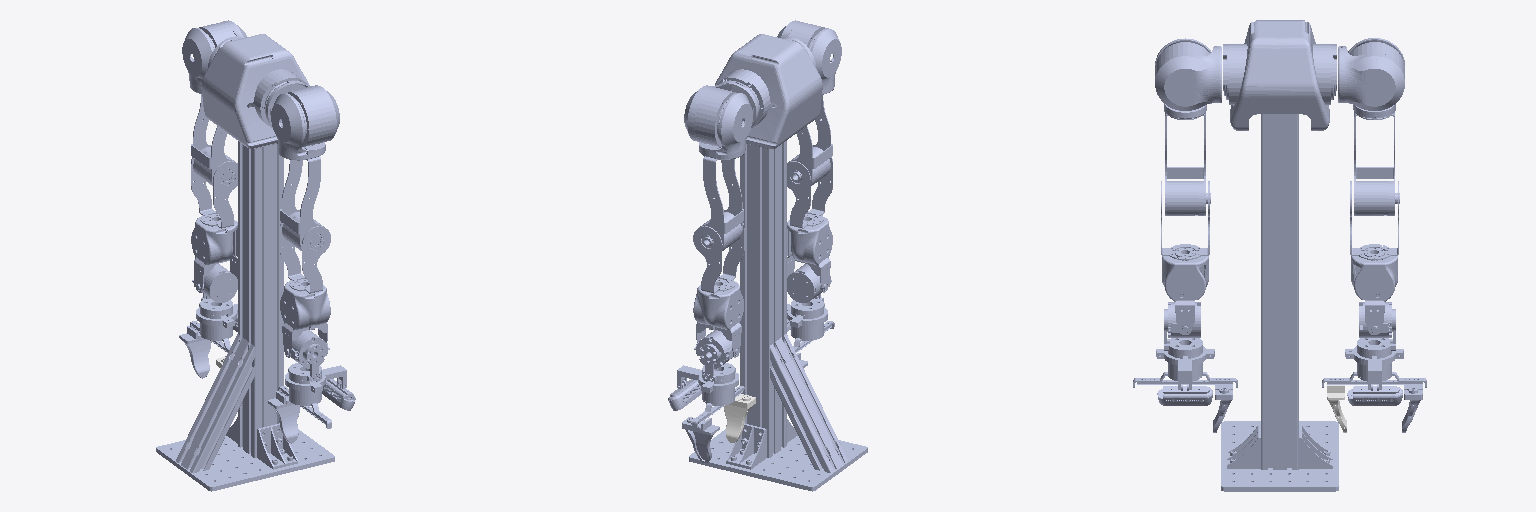
robot.urdf — onlyOpenArm:
<?xml version='1.0' encoding='utf-8'?>
<robot name="onlyOpenArm">
  <link name="base_link">
    <inertial>
      <origin xyz="-0.016465 -6.2104E-08 0.2186" rpy="0 0 0" />
      <mass value="1.2996" />
      <inertia ixx="0.035976" ixy="-1.3223E-09" ixz="-0.00018779" iyy="0.036865" iyz="4.1353E-09" izz="0.0038633" />
    </inertial>
    <visual>
      <origin xyz="0 0 0" rpy="0 0 0" />
      <geometry>
        <mesh filename="../meshes/base_link.STL" />
      </geometry>
      <material name="base_link_mat">
        <color rgba="0.79216 0.81961 0.93333 1" />
      </material>
    </visual>
    <collision>
      <origin xyz="0 0 0" rpy="0 0 0" />
      <geometry>
        <mesh filename="../meshes/base_link.STL" />
      </geometry>
    </collision>
  </link>
  <link name="chest_link">
    <inertial>
      <origin xyz="-0.00265426125453608 -4.62170468645087E-07 -0.000315991909358826" rpy="0 0 0" />
      <mass value="0.961029300529121" />
      <inertia ixx="0.00154725912662695" ixy="1.7764772828954E-09" ixz="-8.78663568183448E-06" iyy="0.00146100214608263" iyz="5.50592531335144E-09" izz="0.00110103910235356" />
    </inertial>
    <visual>
      <origin xyz="0 0 0" rpy="0 0 0" />
      <geometry>
        <mesh filename="../meshes/chest_link.STL" />
      </geometry>
      <material name="chest_link_mat">
        <color rgba="0.792156862745098 0.819607843137255 0.933333333333333 1" />
      </material>
    </visual>
    <collision>
      <origin xyz="0 0 0" rpy="0 0 0" />
      <geometry>
        <mesh filename="../meshes/chest_link.STL" />
      </geometry>
    </collision>
  </link>
  <joint name="chest_link_joint" type="fixed">
    <origin xyz="0 0 0.689" rpy="0 0 0" />
    <parent link="base_link" />
    <child link="chest_link" />
    <axis xyz="0 0 0" />
  </joint>
  <link name="L_link1">
    <inertial>
      <origin xyz="0.0028574850509792 0.0632204521899359 -3.65597203566548E-06" rpy="0 0 0" />
      <mass value="0.428723167605888" />
      <inertia ixx="0.000497786435074814" ixy="-4.06674375356836E-06" ixz="-1.4852974232873E-08" iyy="0.000348928202100703" iyz="2.18829443005103E-08" izz="0.000348282547632613" />
    </inertial>
    <visual>
      <origin xyz="0 0 0" rpy="0 0 0" />
      <geometry>
        <mesh filename="../meshes/L_link1.STL" />
      </geometry>
      <material name="L_link1_mat">
        <color rgba="0.792156862745098 0.819607843137255 0.933333333333333 1" />
      </material>
    </visual>
    <collision>
      <origin xyz="0 0 0" rpy="0 0 0" />
      <geometry>
        <mesh filename="../meshes/L_link1.STL" />
      </geometry>
    </collision>
  </link>
  <joint name="openarm_left_joint1" type="revolute">
    <origin xyz="0 0.0875 0" rpy="0 0 0" />
    <parent link="chest_link" />
    <child link="L_link1" />
    <axis xyz="0 -1 0" />
    <limit lower="-3.490659" upper="1.396263" effort="40" velocity="16.754666" />
  </joint>
  <link name="L_link2">
    <inertial>
      <origin xyz="0.00319114847802606 1.89157972412812E-05 -0.0180126991207188" rpy="0 0 0" />
      <mass value="0.0330585388174651" />
      <inertia ixx="4.44439087771086E-05" ixy="-9.79241733494771E-09" ixz="1.58857978311644E-06" iyy="2.43696065668973E-05" iyz="2.17251644636195E-08" izz="2.70784810921336E-05" />
    </inertial>
    <visual>
      <origin xyz="0 0 0" rpy="0 0 0" />
      <geometry>
        <mesh filename="../meshes/L_link2.STL" />
      </geometry>
      <material name="L_link2_mat">
        <color rgba="0.792156862745098 0.819607843137255 0.933333333333333 1" />
      </material>
    </visual>
    <collision>
      <origin xyz="0 0 0" rpy="0 0 0" />
      <geometry>
        <mesh filename="../meshes/L_link2.STL" />
      </geometry>
    </collision>
  </link>
  <joint name="openarm_left_joint2" type="revolute">
    <origin xyz="-0.0284 0.065 0" rpy="0 0 0" />
    <parent link="L_link1" />
    <child link="L_link2" />
    <axis xyz="1 0 0" />
    <limit lower="-0.174532673205103" upper="3.3161253267949" effort="40" velocity="16.754666" />
  </joint>
  <link name="L_link3">
    <inertial>
      <origin xyz="-0.00800291007930856 -0.000343346707671943 -0.0531308257525825" rpy="0 0 0" />
      <mass value="0.0461751985532206" />
      <inertia ixx="9.23488628163283E-05" ixy="-2.0765646985585E-08" ixz="-5.02288532006929E-06" iyy="7.97136401174945E-05" iyz="-1.04079045180172E-06" izz="3.3626457414897E-05" />
    </inertial>
    <visual>
      <origin xyz="0 0 0" rpy="0 0 0" />
      <geometry>
        <mesh filename="../meshes/L_link3.STL" />
      </geometry>
      <material name="L_link3_mat">
        <color rgba="0.792156862745098 0.819607843137255 0.933333333333333 1" />
      </material>
    </visual>
    <collision>
      <origin xyz="0 0 0" rpy="0 0 0" />
      <geometry>
        <mesh filename="../meshes/L_link3.STL" />
      </geometry>
    </collision>
  </link>
  <joint name="openarm_left_joint3" type="revolute">
    <origin xyz="0.0284 0 -0.051" rpy="0 0 0" />
    <parent link="L_link2" />
    <child link="L_link3" />
    <axis xyz="0 0 -1" />
    <limit lower="-1.570796" upper="1.570796" effort="27" velocity="5.445426" />
  </joint>
  <link name="L_link4">
    <inertial>
      <origin xyz="-0.000377103258752248 -0.000972742660667103 -0.00461714043021344" rpy="0 0 0" />
      <mass value="0.167515407349166" />
      <inertia ixx="9.1526242310371E-05" ixy="4.06808603077388E-07" ixz="-7.74033979090791E-07" iyy="9.63150655378188E-05" iyz="1.82567188603807E-07" izz="6.43816342016769E-05" />
    </inertial>
    <visual>
      <origin xyz="0 0 0" rpy="0 0 0" />
      <geometry>
        <mesh filename="../meshes/L_link4.STL" />
      </geometry>
      <material name="L_link4_mat">
        <color rgba="0.792156862745098 0.819607843137255 0.933333333333333 1" />
      </material>
    </visual>
    <collision>
      <origin xyz="0 0 0" rpy="0 0 0" />
      <geometry>
        <mesh filename="../meshes/L_link4.STL" />
      </geometry>
    </collision>
  </link>
  <joint name="openarm_left_joint4" type="revolute">
    <origin xyz="0 -5E-05 -0.169" rpy="0 0 0" />
    <parent link="L_link3" />
    <child link="L_link4" />
    <axis xyz="0 1 0" />
    <limit lower="-2.443461" upper="0" effort="27" velocity="5.445426" />
  </joint>
  <link name="L_link5">
    <inertial>
      <origin xyz="-0.00157552316828087 0.00139645686886938 -0.0368146146540423" rpy="0 0 0" />
      <mass value="0.0624093411778105" />
      <inertia ixx="5.77164829166304E-05" ixy="2.51989765412789E-06" ixz="4.37147269376145E-07" iyy="4.12323548583873E-05" iyz="1.56275801538606E-06" izz="3.09448276005759E-05" />
    </inertial>
    <visual>
      <origin xyz="0 0 0" rpy="0 0 0" />
      <geometry>
        <mesh filename="../meshes/L_link5.STL" />
      </geometry>
      <material name="L_link5_mat">
        <color rgba="0.792156862745098 0.819607843137255 0.933333333333333 1" />
      </material>
    </visual>
    <collision>
      <origin xyz="0 0 0" rpy="0 0 0" />
      <geometry>
        <mesh filename="../meshes/L_link5.STL" />
      </geometry>
    </collision>
  </link>
  <joint name="openarm_left_joint5" type="revolute">
    <origin xyz="0 0 -0.0955" rpy="0 0 0" />
    <parent link="L_link4" />
    <child link="L_link5" />
    <axis xyz="0 0 -1" />
    <limit lower="-1.570796" upper="1.570796" effort="7" velocity="20.943946" />
  </joint>
  <link name="L_link6">
    <inertial>
      <origin xyz="-0.000118219054211455 0.000482034444093504 9.19047871509315E-05" rpy="0 0 0" />
      <mass value="0.124365317000334" />
      <inertia ixx="4.3383251869096E-05" ixy="-2.85632328450714E-07" ixz="1.91172558422698E-10" iyy="5.10124622550893E-05" iyz="-9.1202007691454E-09" izz="4.38521015932098E-05" />
    </inertial>
    <visual>
      <origin xyz="0 0 0" rpy="0 0 0" />
      <geometry>
        <mesh filename="../meshes/L_link6.STL" />
      </geometry>
      <material name="L_link6_mat">
        <color rgba="0.792156862745098 0.819607843137255 0.933333333333333 1" />
      </material>
    </visual>
    <collision>
      <origin xyz="0 0 0" rpy="0 0 0" />
      <geometry>
        <mesh filename="../meshes/L_link6.STL" />
      </geometry>
    </collision>
  </link>
  <joint name="openarm_left_joint6" type="revolute">
    <origin xyz="0 0 -0.1205" rpy="0 0 0" />
    <parent link="L_link5" />
    <child link="L_link6" />
    <axis xyz="-1 0 0" />
    <limit lower="-0.785398" upper="0.785398" effort="7" velocity="20.943946" />
  </joint>
  <link name="L_link7">
    <inertial>
      <origin xyz="0.0579651580272021 -0.0297329943740067 -0.0995073797045613" rpy="0 0 0" />
      <mass value="1.55408348257679" />
      <inertia ixx="0.000920081040486201" ixy="5.52488548083173E-06" ixz="-7.11704096168738E-06" iyy="0.000202027765234832" iyz="-1.03988256694991E-05" izz="0.00092014746838654" />
    </inertial>
    <visual>
      <origin xyz="0 0 0" rpy="0 0 0" />
      <geometry>
        <mesh filename="../meshes/L_link7.STL" />
      </geometry>
      <material name="L_link7_mat">
        <color rgba="0.792156862745098 0.819607843137255 0.933333333333333 1" />
      </material>
    </visual>
    <collision>
      <origin xyz="0 0 0" rpy="0 0 0" />
      <geometry>
        <mesh filename="../meshes/L_link7.STL" />
      </geometry>
    </collision>
  </link>
  <joint name="openarm_left_joint7" type="revolute">
    <origin xyz="0 0.03175 0" rpy="0 0 0" />
    <parent link="L_link6" />
    <child link="L_link7" />
    <axis xyz="0 -1 0" />
    <limit lower="-1.570796" upper="1.570796" effort="7" velocity="20.943946" />
  </joint>
  <link name="gripper_LL_link">
    <inertial>
      <origin xyz="0.002238 -0.0019386 -0.021101" rpy="0 0 0" />
      <mass value="0.034293" />
      <inertia ixx="1.5009E-05" ixy="6.7185E-09" ixz="4.766E-07" iyy="1.9802E-05" iyz="-2.638E-06" izz="8.7324E-06" />
    </inertial>
    <visual>
      <origin xyz="0 0 0" rpy="0 0 0" />
      <geometry>
        <mesh filename="../meshes/gripper_LL_link.STL" />
      </geometry>
      <material name="gripper_LL_link_mat">
        <color rgba="0.79216 0.81961 0.93333 1" />
      </material>
    </visual>
    <collision>
      <origin xyz="0 0 0" rpy="0 0 0" />
      <geometry>
        <mesh filename="../meshes/gripper_LL_link.STL" />
      </geometry>
    </collision>
  </link>
  <joint name="openarm_left_finger_joint2" type="prismatic">
    <origin xyz="0 0.03075 -0.119" rpy="0 0 0" />
    <parent link="L_link7" />
    <child link="gripper_LL_link" />
    <axis xyz="-0.0 -1.0 -0.0" />
    <limit lower="-0.0" upper="0.044" effort="333" velocity="10" />
  <mimic joint="openarm_left_finger_joint1" multiplier="1" offset="0" /></joint>
  <link name="gripper_LR_link">
    <inertial>
      <origin xyz="-0.0081536352641909 -0.0958583062656806 0.286035199817201" rpy="0 0 0" />
      <mass value="24.8394901352636" />
      <inertia ixx="1.99613688757491" ixy="0.000552186470919695" ixz="-0.0560492490589843" iyy="1.78892829373678" iyz="0.0381348206529207" izz="0.27665740999479" />
    </inertial>
    <visual>
      <origin xyz="0 0 0" rpy="0 0 0" />
      <geometry>
        <mesh filename="../meshes/gripper_LR_link.STL" />
      </geometry>
      <material name="gripper_LR_link_mat">
        <color rgba="1 1 1 1" />
      </material>
    </visual>
    <collision>
      <origin xyz="0 0 0" rpy="0 0 0" />
      <geometry>
        <mesh filename="../meshes/gripper_LR_link.STL" />
      </geometry>
    </collision>
  </link>
  <joint name="openarm_left_finger_joint1" type="prismatic">
    <origin xyz="0 -0.09425 -0.119" rpy="0 0 0" />
    <parent link="L_link7" />
    <child link="gripper_LR_link" />
    <axis xyz="0 1 0" />
    <limit lower="0" upper="0.044" effort="333" velocity="10" />
  </joint>
  <link name="R_link1">
    <inertial>
      <origin xyz="0.0028579788079788 -0.0632320700165144 6.25102727125348E-06" rpy="0 0 0" />
      <mass value="0.428550748011452" />
      <inertia ixx="0.00049755288712953" ixy="4.05907561651591E-06" ixz="9.33033665556168E-09" iyy="0.000348624286657862" iyz="1.95220817287406E-08" izz="0.000348217694827786" />
    </inertial>
    <visual>
      <origin xyz="0 0 0" rpy="0 0 0" />
      <geometry>
        <mesh filename="../meshes/R_link1.STL" />
      </geometry>
      <material name="R_link1_mat">
        <color rgba="0.792156862745098 0.819607843137255 0.933333333333333 1" />
      </material>
    </visual>
    <collision>
      <origin xyz="0 0 0" rpy="0 0 0" />
      <geometry>
        <mesh filename="../meshes/R_link1.STL" />
      </geometry>
    </collision>
  </link>
  <joint name="openarm_right_joint1" type="revolute">
    <origin xyz="0 -0.0875 0" rpy="0 0 0" />
    <parent link="chest_link" />
    <child link="R_link1" />
    <axis xyz="0 -1 0" />
    <limit lower="-1.396263" upper="3.490659" effort="40" velocity="16.754666" />
  </joint>
  <link name="R_link2">
    <inertial>
      <origin xyz="0.00301992882213901 -4.93390547834371E-07 -0.0217193749285765" rpy="0 0 0" />
      <mass value="0.0359553759304964" />
      <inertia ixx="4.97804540107305E-05" ixy="-2.46599493217256E-10" ixz="1.84997524916397E-06" iyy="2.91752185113685E-05" iyz="-6.92175006563736E-10" izz="2.79887059601754E-05" />
    </inertial>
    <visual>
      <origin xyz="0 0 0" rpy="0 0 0" />
      <geometry>
        <mesh filename="../meshes/R_link2.STL" />
      </geometry>
      <material name="R_link2_mat">
        <color rgba="0.792156862745098 0.819607843137255 0.933333333333333 1" />
      </material>
    </visual>
    <collision>
      <origin xyz="0 0 0" rpy="0 0 0" />
      <geometry>
        <mesh filename="../meshes/R_link2.STL" />
      </geometry>
    </collision>
  </link>
  <joint name="openarm_right_joint2" type="revolute">
    <origin xyz="-0.0284 -0.065 0" rpy="0 0 0" />
    <parent link="R_link1" />
    <child link="R_link2" />
    <axis xyz="1 0 0" />
    <limit lower="-3.3161253267949" upper="0.174532673205103" effort="40" velocity="16.754666" />
  </joint>
  <link name="R_link3">
    <inertial>
      <origin xyz="-0.00800291007404186 -0.00034334670731842 -0.0531308257945925" rpy="0 0 0" />
      <mass value="0.0461751985133138" />
      <inertia ixx="9.23488628161599E-05" ixy="-2.07656467619852E-08" ixz="-5.0228853205785E-06" iyy="7.97136401152781E-05" iyz="-1.04079045185224E-06" izz="3.36264574128015E-05" />
    </inertial>
    <visual>
      <origin xyz="0 0 0" rpy="0 0 0" />
      <geometry>
        <mesh filename="../meshes/R_link3.STL" />
      </geometry>
      <material name="R_link3_mat">
        <color rgba="0.792156862745098 0.819607843137255 0.933333333333333 1" />
      </material>
    </visual>
    <collision>
      <origin xyz="0 0 0" rpy="0 0 0" />
      <geometry>
        <mesh filename="../meshes/R_link3.STL" />
      </geometry>
    </collision>
  </link>
  <joint name="openarm_right_joint3" type="revolute">
    <origin xyz="0.0284 0 -0.051" rpy="0 0 0" />
    <parent link="R_link2" />
    <child link="R_link3" />
    <axis xyz="0 0 -1" />
    <limit lower="-1.570796" upper="1.570796" effort="27" velocity="5.445426" />
  </joint>
  <link name="R_link4">
    <inertial>
      <origin xyz="-0.000377103258748617 -0.00102274266064992 -0.00461714043020178" rpy="0 0 0" />
      <mass value="0.167515407349026" />
      <inertia ixx="9.15262423103031E-05" ixy="4.0680860310184E-07" ixz="-7.74033979052493E-07" iyy="9.63150655377791E-05" iyz="1.82567188654244E-07" izz="6.43816342016233E-05" />
    </inertial>
    <visual>
      <origin xyz="0 0 0" rpy="0 0 0" />
      <geometry>
        <mesh filename="../meshes/R_link4.STL" />
      </geometry>
      <material name="R_link4_mat">
        <color rgba="0.792156862745098 0.819607843137255 0.933333333333333 1" />
      </material>
    </visual>
    <collision>
      <origin xyz="0 0 0" rpy="0 0 0" />
      <geometry>
        <mesh filename="../meshes/R_link4.STL" />
      </geometry>
    </collision>
  </link>
  <joint name="openarm_right_joint4" type="revolute">
    <origin xyz="0 0 -0.169" rpy="0 0 0" />
    <parent link="R_link3" />
    <child link="R_link4" />
    <axis xyz="0 1 0" />
    <limit lower="-2.443461" upper="0" effort="27" velocity="5.445426" />
  </joint>
  <link name="R_link5">
    <inertial>
      <origin xyz="-0.00156215263024501 -0.0014508892507919 -0.0368162356097759" rpy="0 0 0" />
      <mass value="0.0624378916320301" />
      <inertia ixx="5.77190405834513E-05" ixy="-2.52109519301694E-06" ixz="4.36107708487273E-07" iyy="4.12343320609259E-05" iyz="-1.56205392080774E-06" izz="3.09367259554593E-05" />
    </inertial>
    <visual>
      <origin xyz="0 0 0" rpy="0 0 0" />
      <geometry>
        <mesh filename="../meshes/R_link5.STL" />
      </geometry>
      <material name="R_link5_mat">
        <color rgba="0.792156862745098 0.819607843137255 0.933333333333333 1" />
      </material>
    </visual>
    <collision>
      <origin xyz="0 0 0" rpy="0 0 0" />
      <geometry>
        <mesh filename="../meshes/R_link5.STL" />
      </geometry>
    </collision>
  </link>
  <joint name="openarm_right_joint5" type="revolute">
    <origin xyz="0 0 -0.0955" rpy="0 0 0" />
    <parent link="R_link4" />
    <child link="R_link5" />
    <axis xyz="0 0 -1" />
    <limit lower="-1.570796" upper="1.570796" effort="7" velocity="20.943946" />
  </joint>
  <link name="R_link6">
    <inertial>
      <origin xyz="0.000118067887697734 -0.000531937521913328 9.17235558789975E-05" rpy="0 0 0" />
      <mass value="0.124364324604372" />
      <inertia ixx="4.33830979938231E-05" ixy="-2.85643185329965E-07" ixz="1.62190173725937E-10" iyy="5.10123532930584E-05" iyz="9.08394934900115E-09" izz="4.3852129572716E-05" />
    </inertial>
    <visual>
      <origin xyz="0 0 0" rpy="0 0 0" />
      <geometry>
        <mesh filename="../meshes/R_link6.STL" />
      </geometry>
      <material name="R_link6_mat">
        <color rgba="0.792156862745098 0.819607843137255 0.933333333333333 1" />
      </material>
    </visual>
    <collision>
      <origin xyz="0 0 0" rpy="0 0 0" />
      <geometry>
        <mesh filename="../meshes/R_link6.STL" />
      </geometry>
    </collision>
  </link>
  <joint name="openarm_right_joint6" type="revolute">
    <origin xyz="0 0 -0.1205" rpy="0 0 0" />
    <parent link="R_link5" />
    <child link="R_link6" />
    <axis xyz="-1 0 0" />
    <limit lower="-0.785398" upper="0.785398" effort="7" velocity="20.943946" />
  </joint>
  <link name="R_link7">
    <inertial>
      <origin xyz="0.0579890709326253 0.0322364241621132 -0.0995073780883964" rpy="0 0 0" />
      <mass value="1.55408351225417" />
      <inertia ixx="0.000920062424870304" ixy="-6.58845916625103E-06" ixz="-7.30255194909462E-06" iyy="0.000202046070900697" iyz="-1.07704004503888E-05" izz="0.000920147151754771" />
    </inertial>
    <visual>
      <origin xyz="0 0 0" rpy="0 0 0" />
      <geometry>
        <mesh filename="../meshes/R_link7.STL" />
      </geometry>
      <material name="R_link7_mat">
        <color rgba="0.792156862745098 0.819607843137255 0.933333333333333 1" />
      </material>
    </visual>
    <collision>
      <origin xyz="0 0 0" rpy="0 0 0" />
      <geometry>
        <mesh filename="../meshes/R_link7.STL" />
      </geometry>
    </collision>
  </link>
  <joint name="openarm_right_joint7" type="revolute">
    <origin xyz="0 -0.0318 0" rpy="0 0 0" />
    <parent link="R_link6" />
    <child link="R_link7" />
    <axis xyz="0 -1 0" />
    <limit lower="-1.570796" upper="1.570796" effort="7" velocity="20.943946" />
  </joint>
  <link name="gripper_RR_link">
    <inertial>
      <origin xyz="-0.00115762087383311 0.001921667134859 -0.0210330468761778" rpy="0 0 0" />
      <mass value="0.0342427855585353" />
      <inertia ixx="1.49152564519195E-05" ixy="8.01781518986841E-08" ixz="-4.65980601628511E-07" iyy="1.96608294950165E-05" iyz="2.61479292107359E-06" izz="8.67204438740249E-06" />
    </inertial>
    <visual>
      <origin xyz="0 0 0" rpy="0 0 0" />
      <geometry>
        <mesh filename="../meshes/gripper_RR_link.STL" />
      </geometry>
      <material name="gripper_RR_link_mat">
        <color rgba="0.792156862745098 0.819607843137255 0.933333333333333 1" />
      </material>
    </visual>
    <collision>
      <origin xyz="0 0 0" rpy="0 0 0" />
      <geometry>
        <mesh filename="../meshes/gripper_RR_link.STL" />
      </geometry>
    </collision>
  </link>
  <joint name="openarm_right_finger_joint1" type="prismatic">
    <origin xyz="0 -0.03075 -0.119" rpy="0 0 0" />
    <parent link="R_link7" />
    <child link="gripper_RR_link" />
    <axis xyz="0 1 0" />
    <limit lower="0" upper="0.044" effort="333" velocity="10" />
  </joint>
  <link name="gripper_RL_link">
    <inertial>
      <origin xyz="0.00223998861174706 -0.00193863671107974 -0.0211010833022434" rpy="0 0 0" />
      <mass value="0.0342930894009103" />
      <inertia ixx="1.50087334844321E-05" ixy="6.71848241451695E-09" ixz="4.76602703842671E-07" iyy="1.98021741244921E-05" iyz="-2.63801329391216E-06" izz="8.73237173814284E-06" />
    </inertial>
    <visual>
      <origin xyz="0 0 0" rpy="0 0 0" />
      <geometry>
        <mesh filename="../meshes/gripper_RL_link.STL" />
      </geometry>
      <material name="gripper_RL_link_mat">
        <color rgba="0.792156862745098 0.819607843137255 0.933333333333333 1" />
      </material>
    </visual>
    <collision>
      <origin xyz="0 0 0" rpy="0 0 0" />
      <geometry>
        <mesh filename="../meshes/gripper_RL_link.STL" />
      </geometry>
    </collision>
  </link>
  <joint name="openarm_right_finger_joint2" type="prismatic">
    <origin xyz="0 0.09425 -0.119" rpy="0 0 0" />
    <parent link="R_link7" />
    <child link="gripper_RL_link" />
    <axis xyz="-0.0 -1.0 -0.0" />
    <limit lower="-0.0" upper="0.044" effort="333" velocity="10" />
  <mimic joint="openarm_right_finger_joint1" multiplier="1" offset="0" /></joint>
<link name="openarm_left_ee_tcp" /><joint name="openarm_left_ee_tcp_joint" type="fixed"><origin xyz="0 0 -0.16" rpy="0 0 0" /><parent link="L_link7" /><child link="openarm_left_ee_tcp" /></joint><link name="openarm_right_ee_tcp" /><joint name="openarm_right_ee_tcp_joint" type="fixed"><origin xyz="0 0 -0.16" rpy="0 0 0" /><parent link="R_link7" /><child link="openarm_right_ee_tcp" /></joint></robot>

--- What the picture shows (computed from the rendered views, not written in the file) ---
3 views of the same robot in one strip: view 1: azimuth 30°, elevation 25°; view 2: azimuth 150°, elevation 25°; view 3: azimuth 270°, elevation 25° (orthographic).
Robot: onlyOpenArm — 22 links, 21 joints (14 revolute, 4 prismatic, 3 fixed); root link base_link; default pose: all joints at 0.
Visible links, largest first — view 1: base_link, chest_link, R_link7, R_link1, R_link5, R_link4, L_link4, L_link5, R_link2, R_link3, L_link7, L_link2 (+6 smaller); view 2: base_link, chest_link, L_link7, L_link1, L_link5, L_link4, R_link4, R_link5, L_link3, L_link2, R_link7, R_link2 (+6 smaller); view 3: base_link, chest_link, L_link1, R_link1, L_link7, R_link7, R_link5, L_link5, L_link4, R_link4, R_link3, L_link3 (+7 smaller).
Link boxes in pixels (box(x1,y1,x2,y2)): base_link: box(156, 104, 334, 491); chest_link: box(201, 34, 309, 148); R_link7: box(278, 344, 355, 428); R_link1: box(266, 80, 339, 146); R_link5: box(280, 279, 330, 357); R_link4: box(280, 210, 330, 293); L_link4: box(191, 145, 237, 228); L_link5: box(191, 214, 237, 292); R_link2: box(271, 93, 325, 160); R_link3: box(280, 144, 323, 249); L_link7: box(190, 293, 237, 352); L_link2: box(182, 28, 213, 93); base_link: box(689, 104, 867, 491); chest_link: box(715, 34, 822, 148); L_link7: box(668, 344, 745, 428); L_link1: box(684, 80, 758, 146); L_link5: box(693, 279, 743, 357); L_link4: box(693, 210, 744, 293); R_link4: box(787, 145, 832, 228); R_link5: box(787, 214, 832, 292); L_link3: box(700, 144, 743, 249); L_link2: box(699, 93, 752, 159); R_link7: box(787, 294, 834, 352); R_link2: box(810, 28, 841, 94); base_link: box(1221, 114, 1338, 491); chest_link: box(1223, 20, 1336, 130); L_link1: box(1338, 42, 1404, 110); R_link1: box(1155, 42, 1221, 110); L_link7: box(1322, 309, 1426, 405); R_link7: box(1133, 309, 1237, 405); R_link5: box(1162, 248, 1208, 334); L_link5: box(1351, 247, 1397, 334); L_link4: box(1350, 181, 1399, 259); R_link4: box(1161, 181, 1210, 259); R_link3: box(1165, 113, 1205, 215); L_link3: box(1354, 112, 1394, 215).
Size in the robot's own frame: 0.25 by 0.4731 by 0.773 metres.
19 mesh visuals loaded from 20 distinct referenced files (19 binary STL); not drawn: 1 (reference not matched to a file when rendering).
